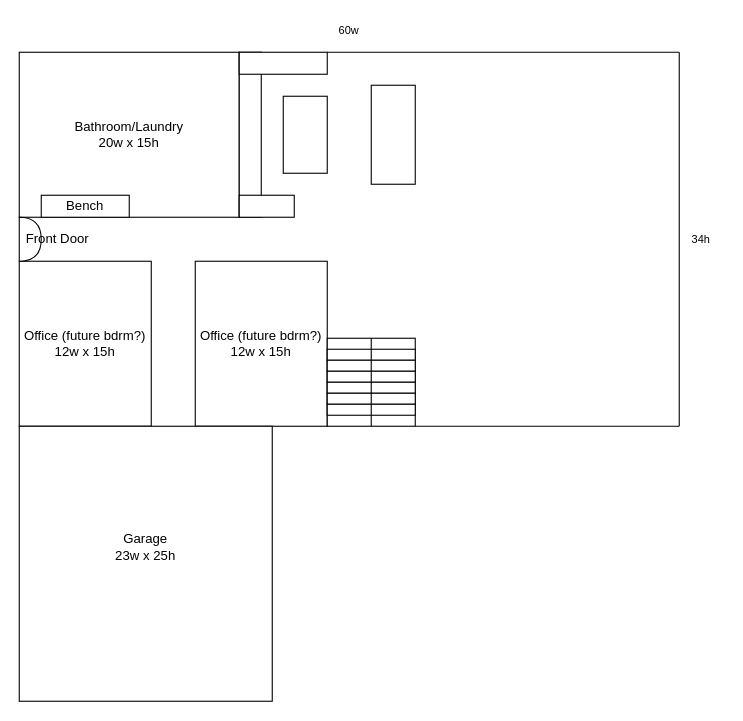
This 743x721 diagram has some shape labels left out. The centre of each missing label's shape, as x and y in pixels:
"Island 4w x 7h" belongs at pixel 304 134.
"Table" belongs at pixel 392 134.
